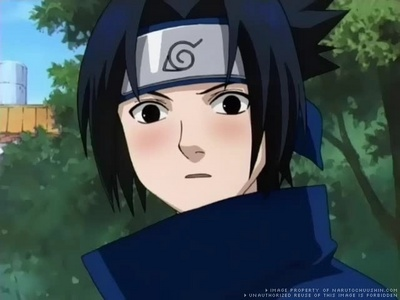sasuke: (111, 19, 273, 211)
